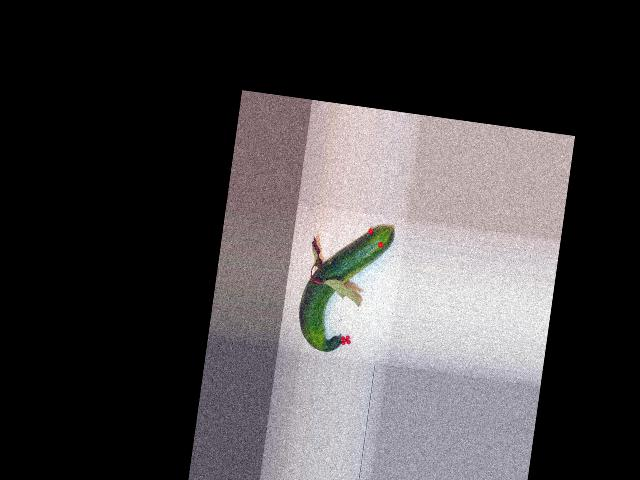cucumber: (294, 215, 395, 359)
